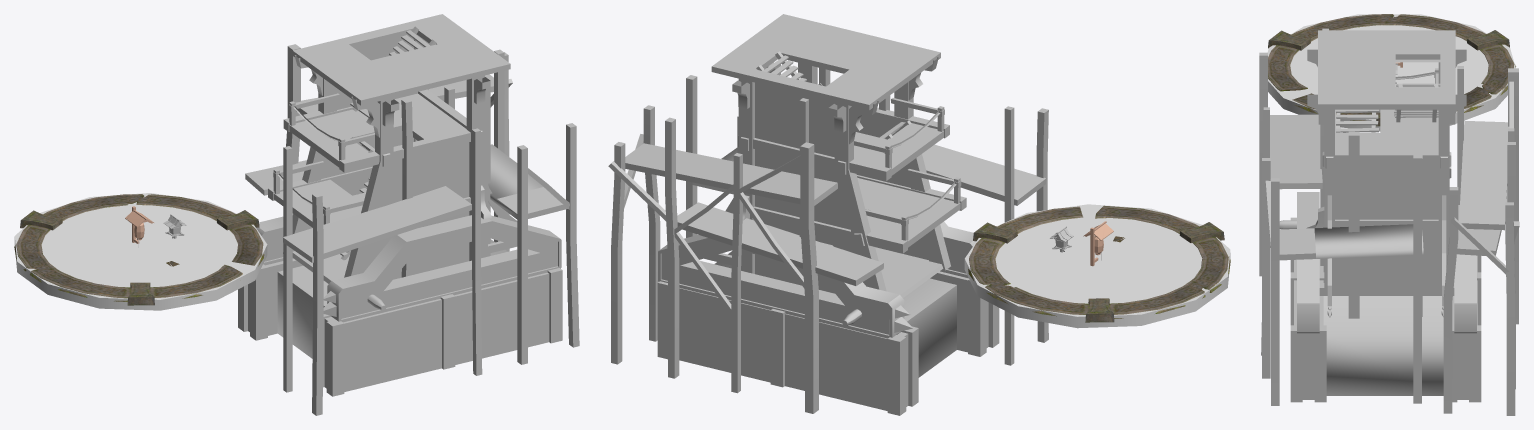
The model's file is Scene_Build_XuanWuShan_ChuShengShiTai_1.FBX.
The picture shows the model from 3 angles, left to right: view 1: azimuth 30°, elevation 25°; view 2: azimuth 150°, elevation 25°; view 3: azimuth 270°, elevation 25°; orthographic projection. The views are drawn at different scales.
Visible parts, largest first — view 1: siege_tower_step3, Scene_Build_XuanWuShan_ChuShengShiTai_1_Xzm, Scene_Build_XuanWuShan_ChuShengShiTai_1; view 2: siege_tower_step3, Scene_Build_XuanWuShan_ChuShengShiTai_1_Xzm, Scene_Build_XuanWuShan_ChuShengShiTai_1, hdeco_si_lighting_k1; view 3: siege_tower_step3, Scene_Build_XuanWuShan_ChuShengShiTai_1, Scene_Build_XuanWuShan_ChuShengShiTai_1_Xzm.
Part boxes in pixels (bbox=[...]): siege_tower_step3: bbox=[238, 14, 579, 415]; Scene_Build_XuanWuShan_ChuShengShiTai_1_Xzm: bbox=[14, 193, 267, 310]; Scene_Build_XuanWuShan_ChuShengShiTai_1: bbox=[14, 194, 264, 305]; siege_tower_step3: bbox=[608, 14, 1048, 415]; Scene_Build_XuanWuShan_ChuShengShiTai_1_Xzm: bbox=[964, 204, 1230, 328]; Scene_Build_XuanWuShan_ChuShengShiTai_1: bbox=[968, 205, 1230, 322]; hdeco_si_lighting_k1: bbox=[1083, 221, 1113, 266]; siege_tower_step3: bbox=[1259, 28, 1519, 415]; Scene_Build_XuanWuShan_ChuShengShiTai_1: bbox=[1268, 14, 1515, 126]; Scene_Build_XuanWuShan_ChuShengShiTai_1_Xzm: bbox=[1267, 14, 1515, 131].
Size of the model in its own units: 2518 by 1312 by 1098.
